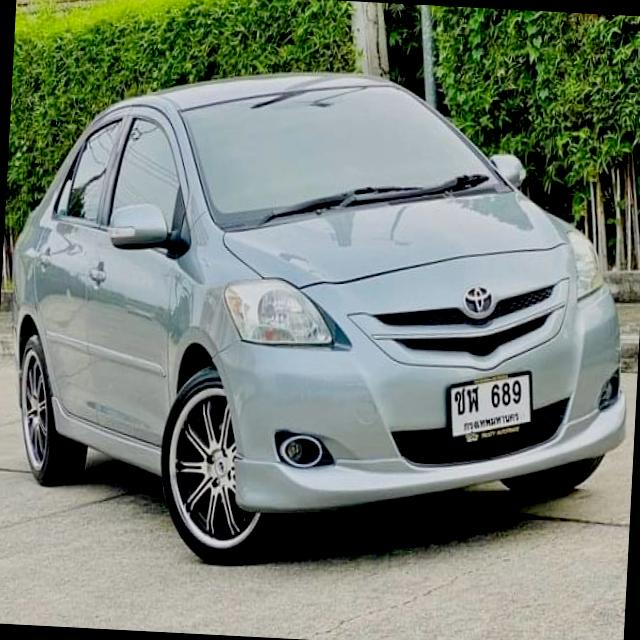license_plate: (441, 364, 538, 457)
